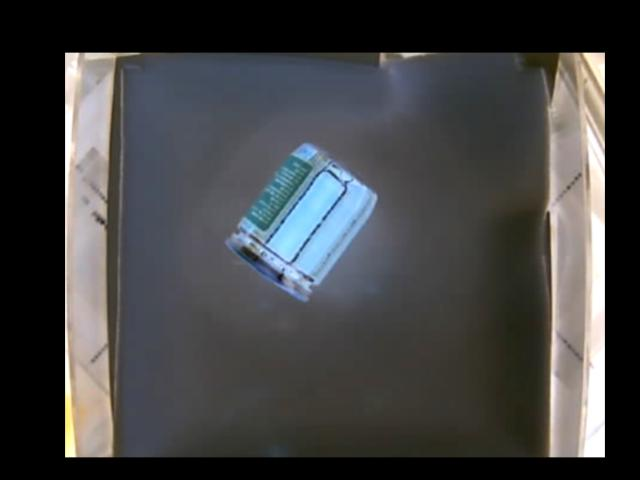Bottle: (223, 143, 376, 303)
